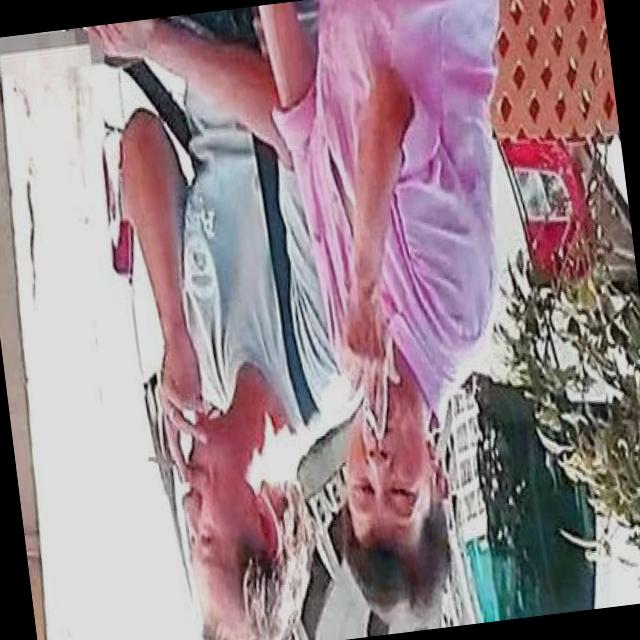cigarette: (140, 437, 200, 497), (356, 388, 394, 451)
